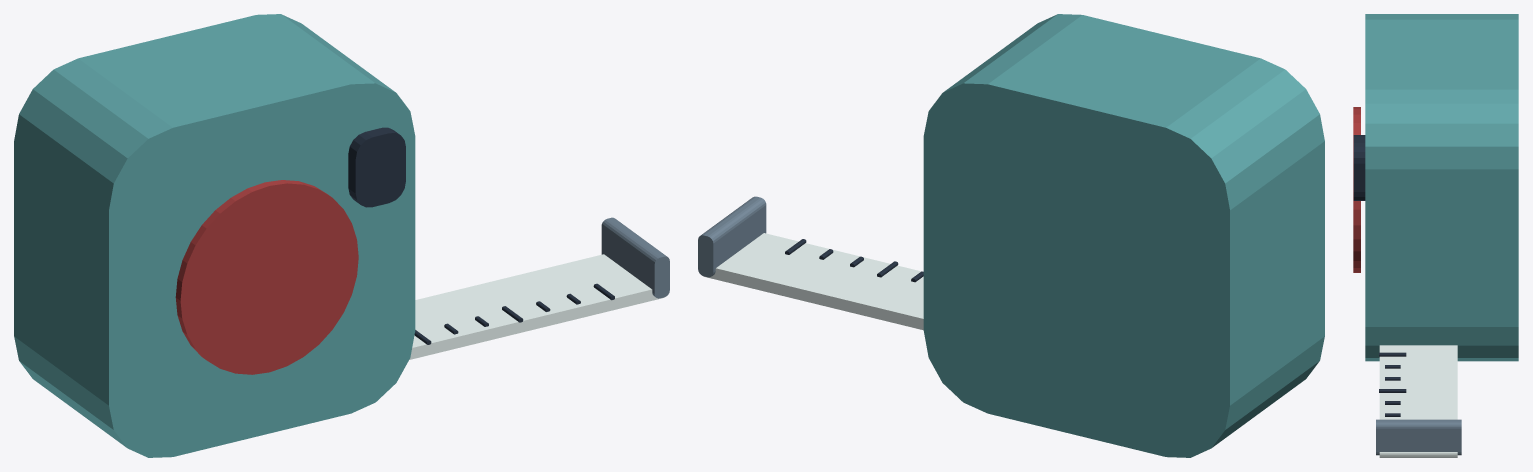
File: taperule.glb
3 views of the same model, side by side, from view 1: azimuth 30°, elevation 25°; view 2: azimuth 150°, elevation 25°; view 3: azimuth 270°, elevation 25° (orthographic). The views are drawn at different scales.
Visible parts, largest first — view 1: housing, case inset, blade, lock button, end hook; view 2: housing, blade, end hook; view 3: housing, blade, end hook, case inset, lock button.
Part boxes in pixels (x1,y1,x2,y2): housing: [14, 14, 415, 457]; case inset: [175, 180, 358, 374]; blade: [409, 254, 664, 359]; lock button: [348, 127, 405, 207]; end hook: [601, 217, 669, 298]; housing: [923, 14, 1324, 457]; blade: [703, 233, 923, 330]; end hook: [698, 196, 766, 277]; housing: [1365, 14, 1518, 361]; blade: [1379, 345, 1457, 457]; end hook: [1376, 419, 1461, 455]; case inset: [1353, 107, 1360, 272]; lock button: [1353, 135, 1365, 200].
Bounding box in the file's own units: 2.04 × 1.13 × 0.637.
